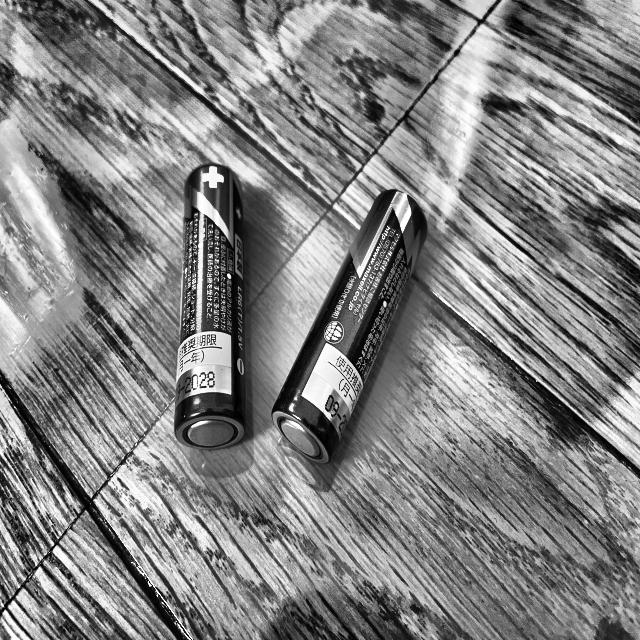drycell: (272, 189, 428, 464), (174, 163, 246, 449)
